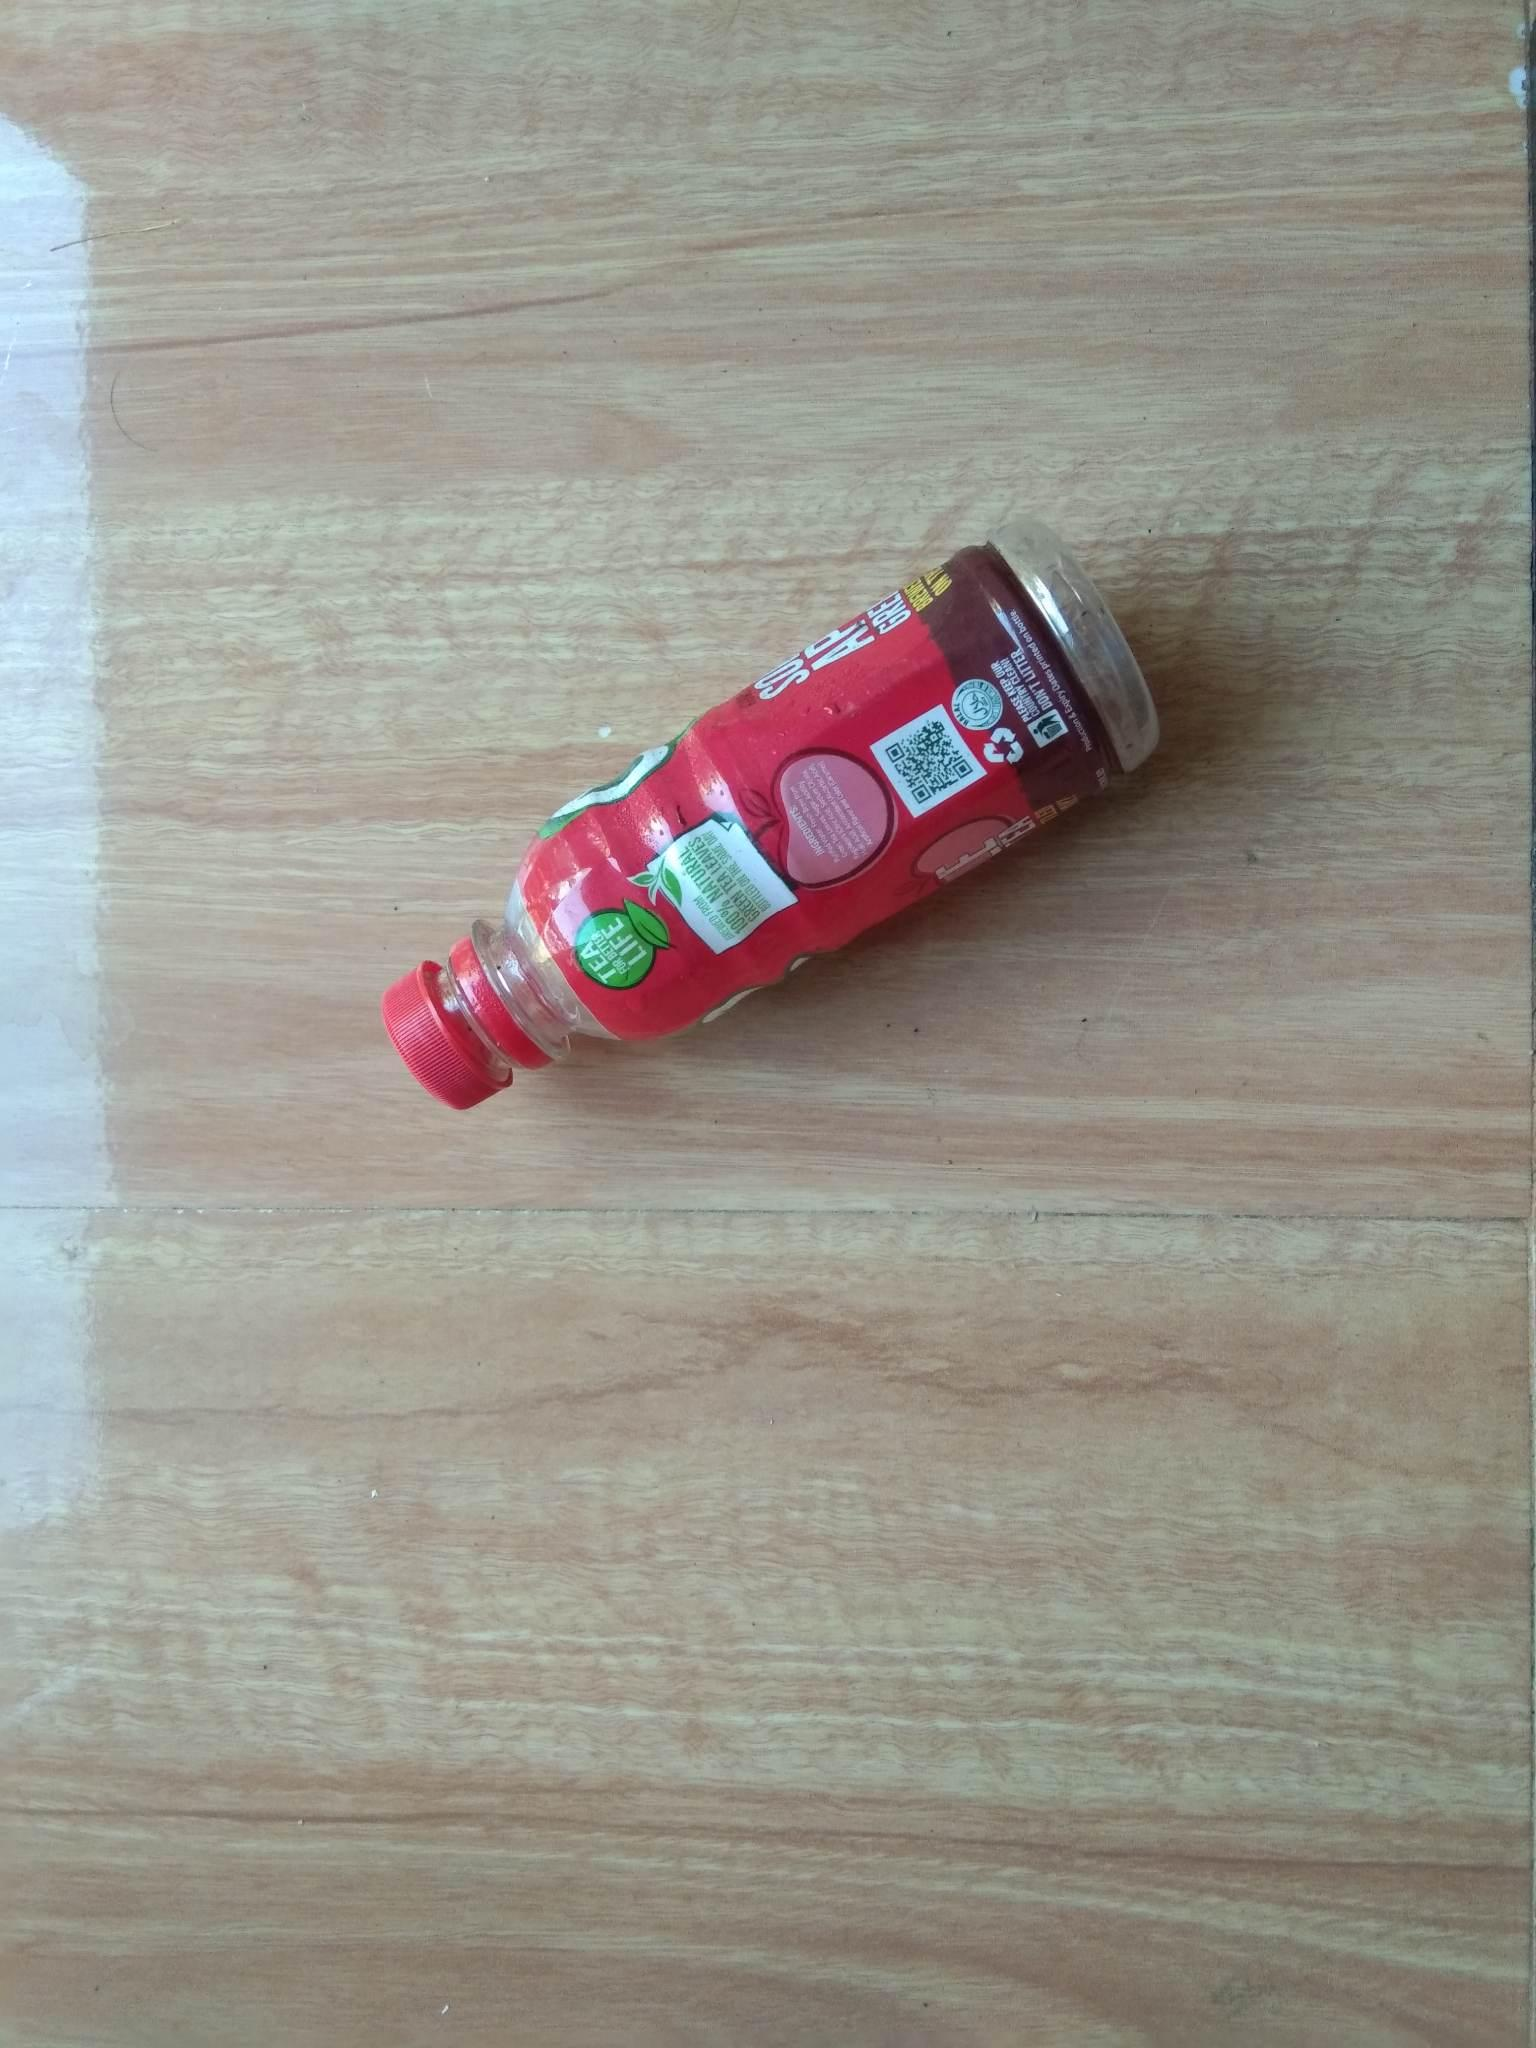plastic: (310, 456, 1220, 1153)
